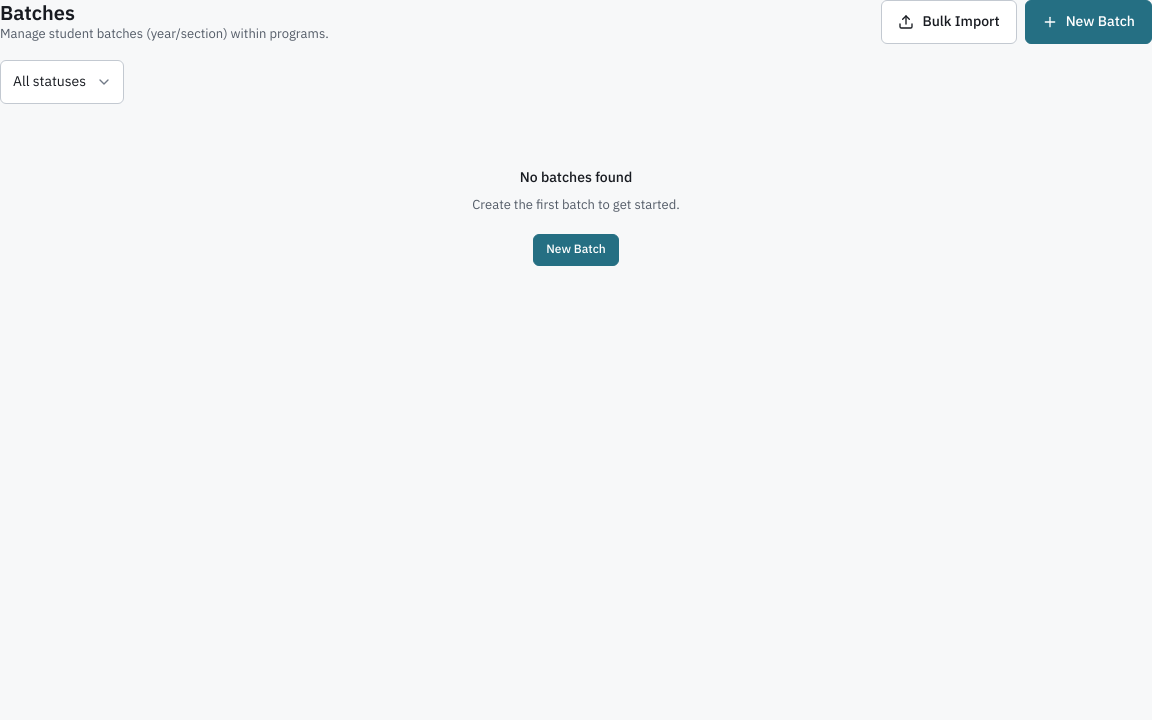
Test case: Admin > Academic Structure > Batches › lists and creates a batch (no search UI, per batches.controller.ts)
Expected: the text "No batches found" is shown, [520, 168, 632, 188]
Click the 1st button "New Batch" at (1088, 22), box [1025, 0, 1151, 44]
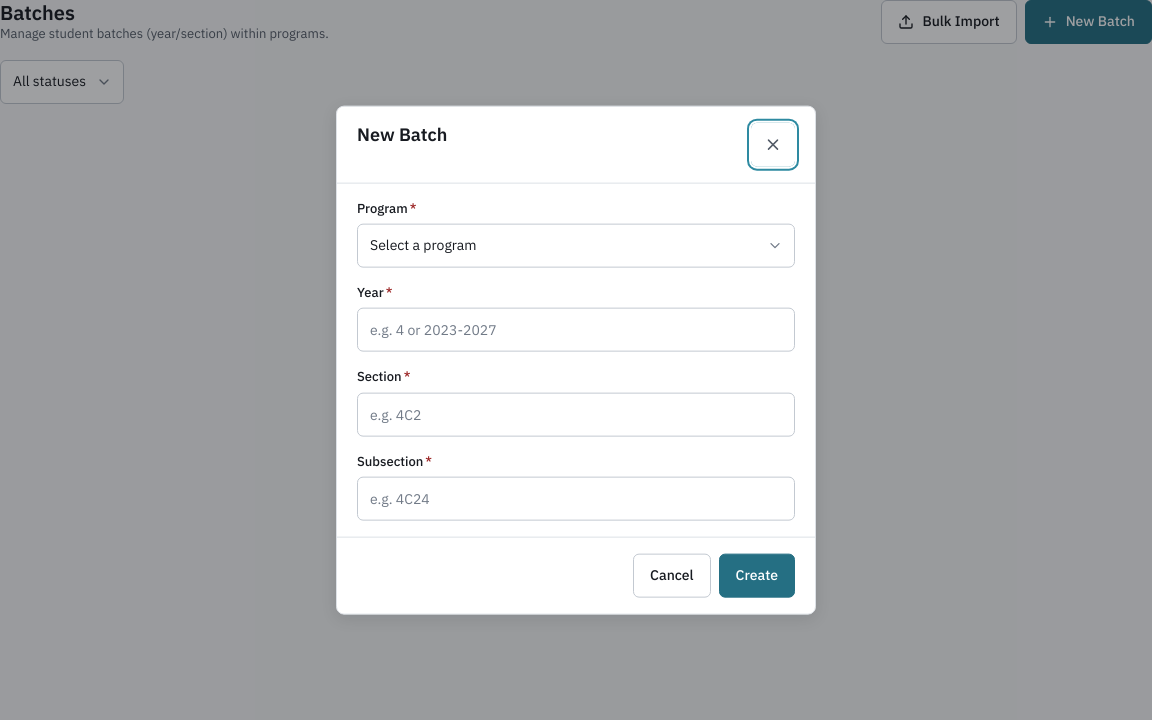
Select "BTCSE — B.Tech CSE" in the dropdown labelled "Program*" at (576, 246), box [357, 224, 795, 268]
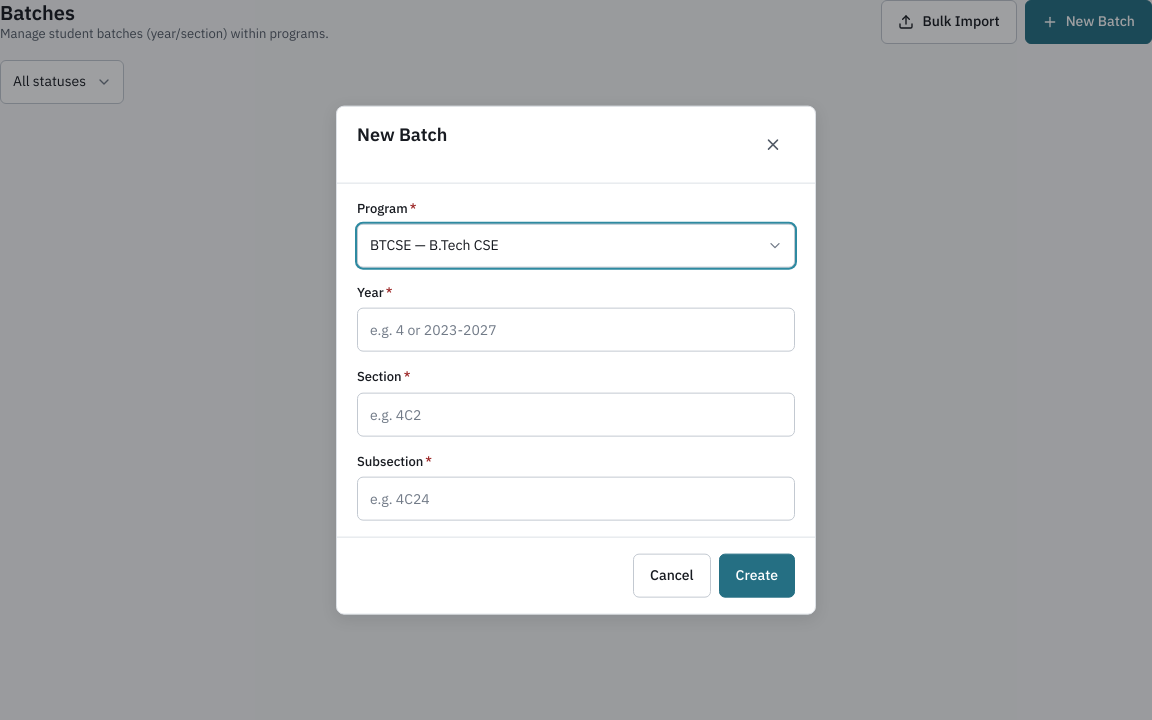
Type "2026" into the field labelled "Year*" at (576, 330), box [357, 308, 795, 352]
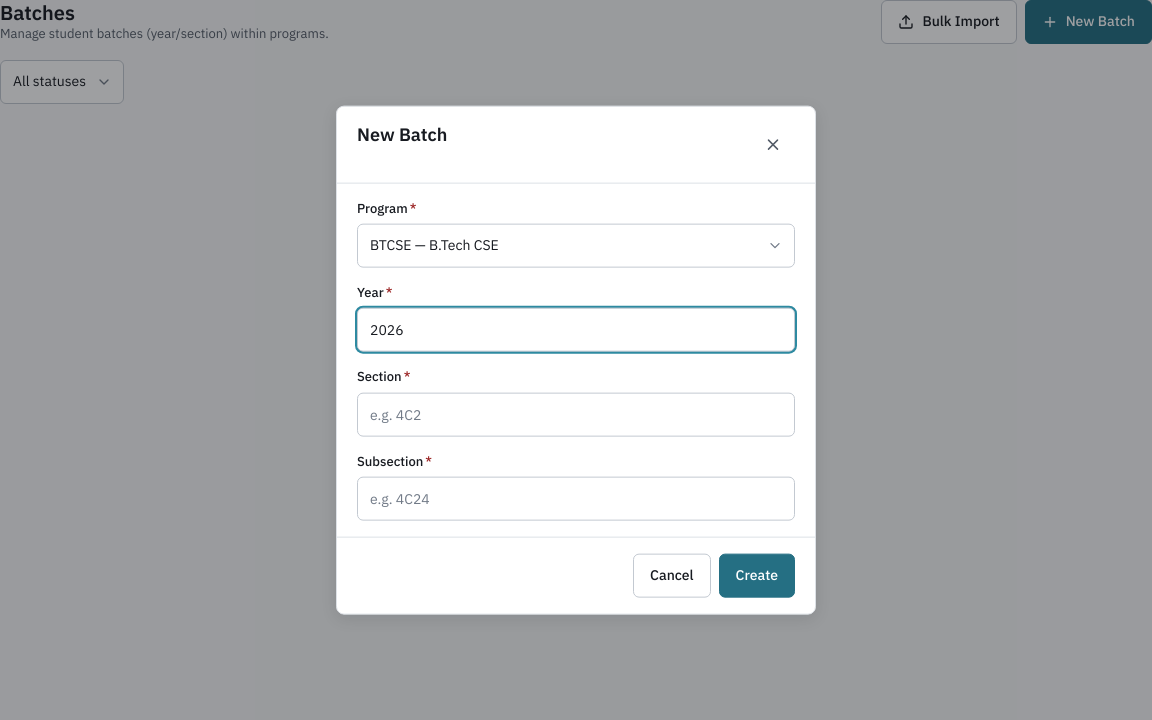
Type "A" into the field labelled "Section*" at (576, 414), box [357, 392, 795, 436]
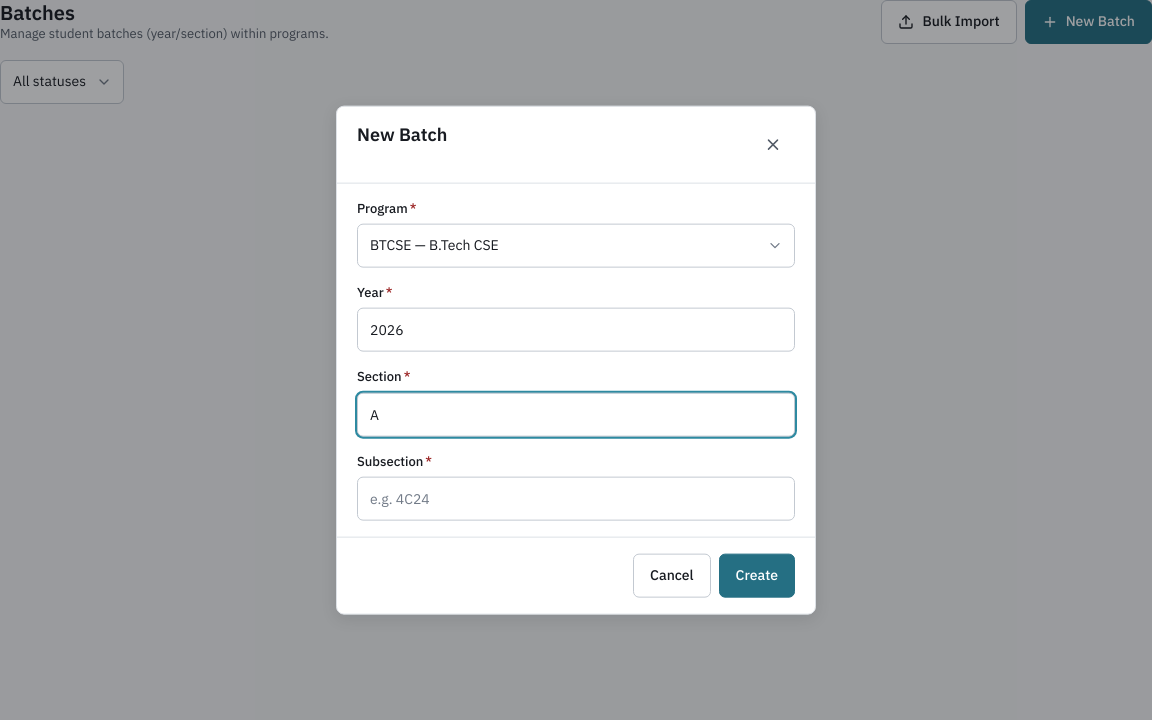
Type "A1" into the field labelled "Subsection*" at (576, 498), box [357, 476, 795, 520]
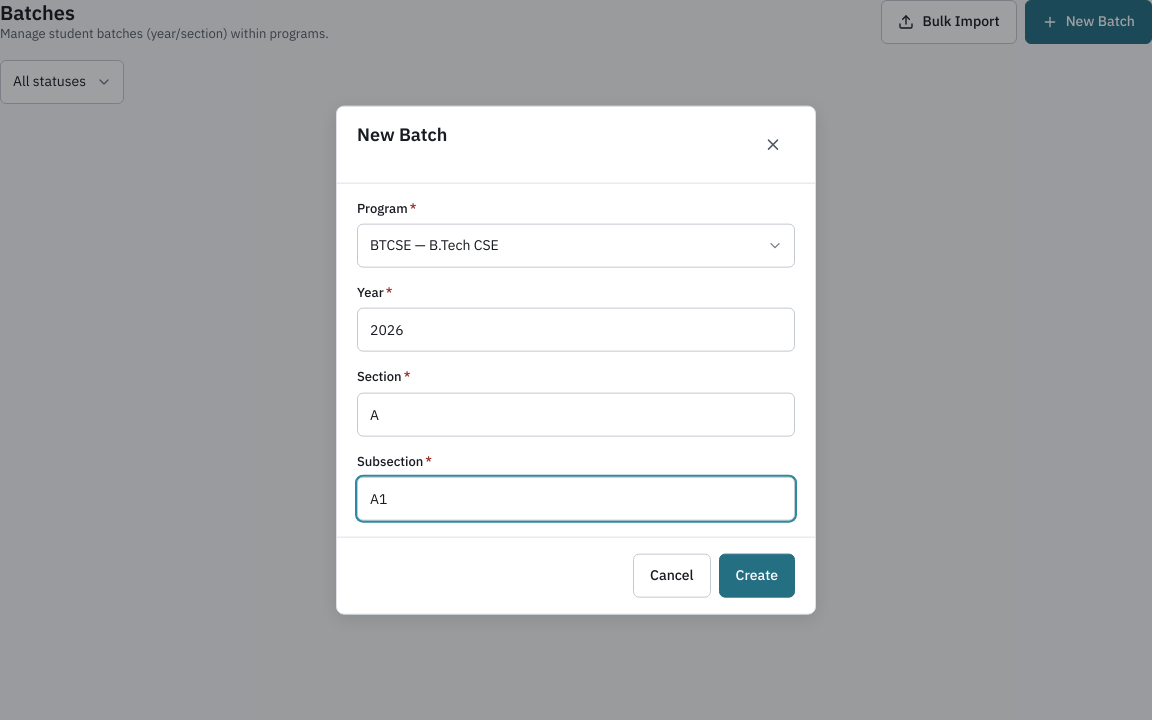
Click the button "Create" at (757, 575), box [719, 553, 795, 597]
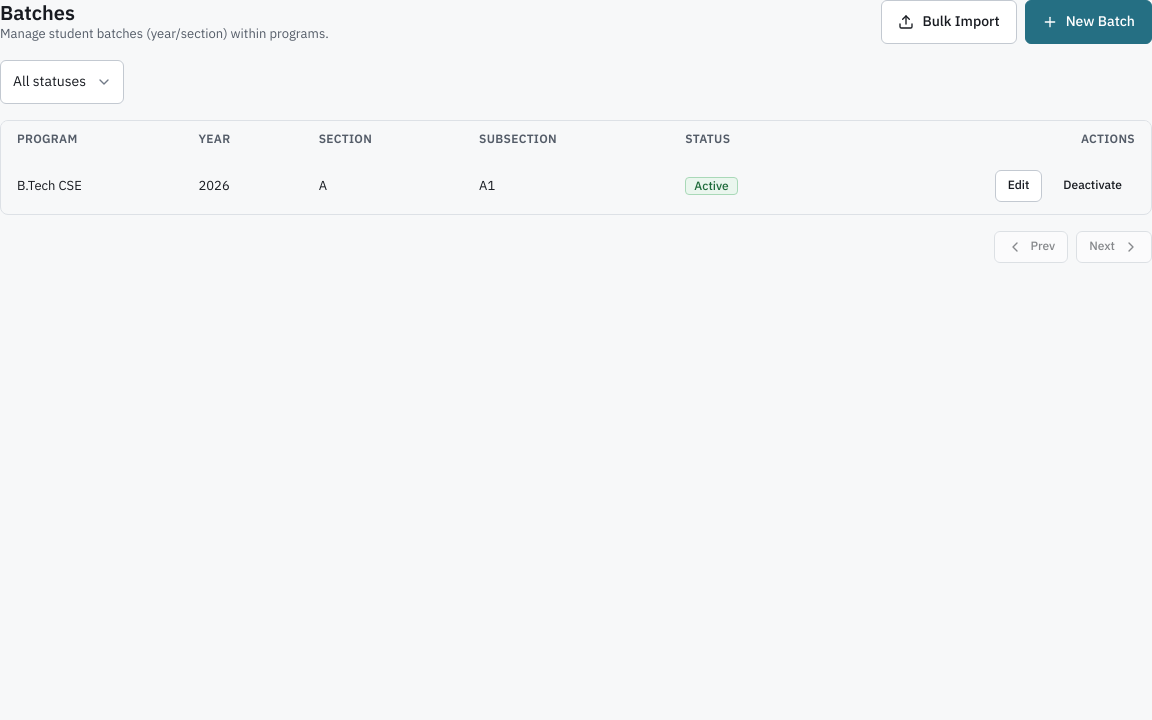
Expected: the text "A" is shown, [303, 158, 463, 214]
Expected: the dialog is gone
